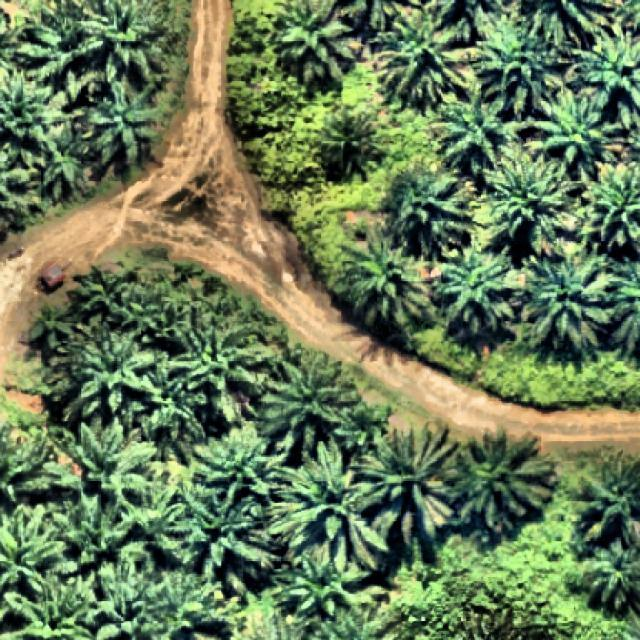Kelapa_Sawit: (270, 434, 390, 574), (351, 424, 460, 547), (44, 317, 168, 423), (478, 148, 586, 262), (458, 424, 560, 538), (254, 349, 360, 458), (336, 216, 436, 330), (178, 482, 276, 598), (513, 251, 618, 355), (170, 317, 272, 423), (372, 8, 474, 110), (533, 80, 624, 182), (18, 0, 108, 102), (472, 36, 577, 121), (388, 165, 478, 262), (44, 422, 158, 498), (435, 244, 520, 338), (277, 538, 372, 622), (192, 427, 290, 504), (430, 92, 518, 176), (86, 78, 166, 167), (49, 493, 142, 569), (74, 549, 146, 640), (138, 358, 207, 446), (114, 482, 194, 552), (317, 105, 386, 178), (32, 122, 94, 198), (71, 262, 135, 316), (28, 298, 77, 351)
